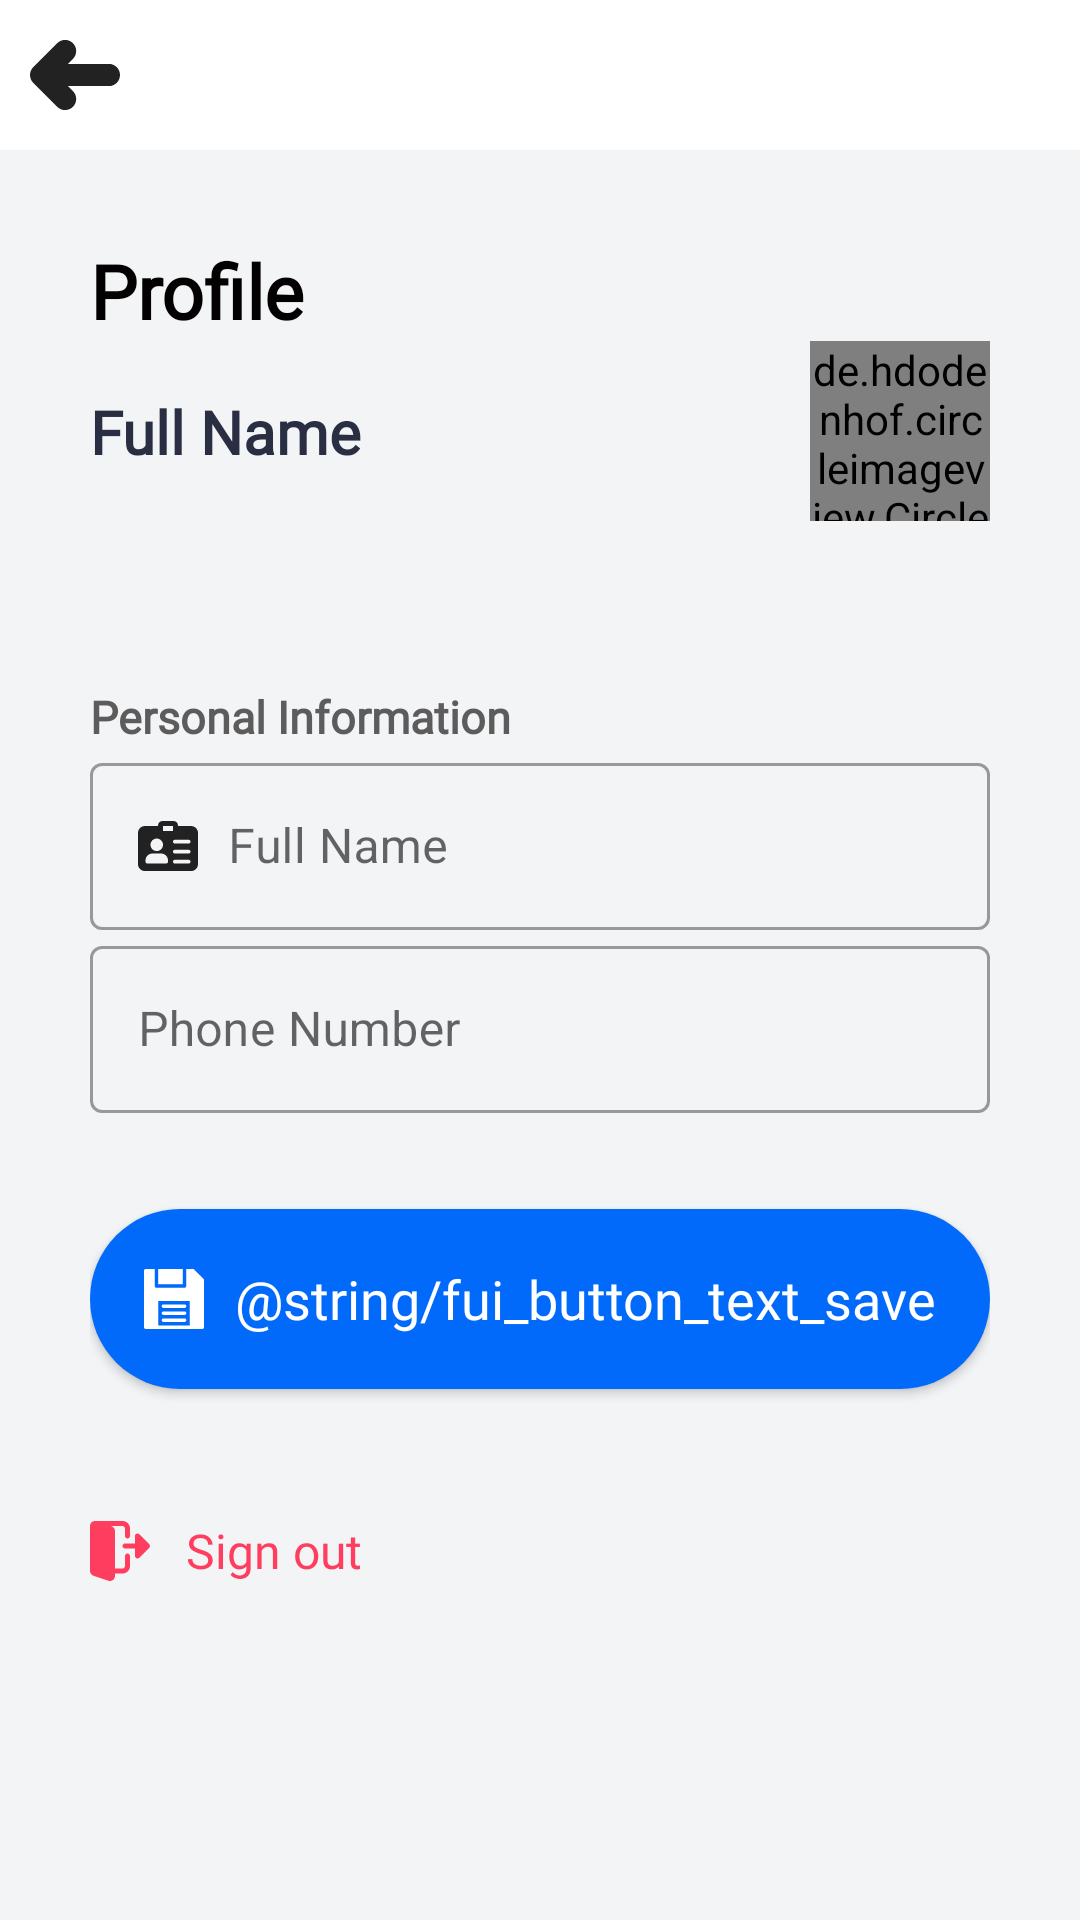

Icon bounding boxes for this 1080px×1920px phone screenshot, format (x1=x1, y1=y1, x2=x2, y2=y2):
Back Button: (x1=30, y1=40, x2=120, y2=110)
